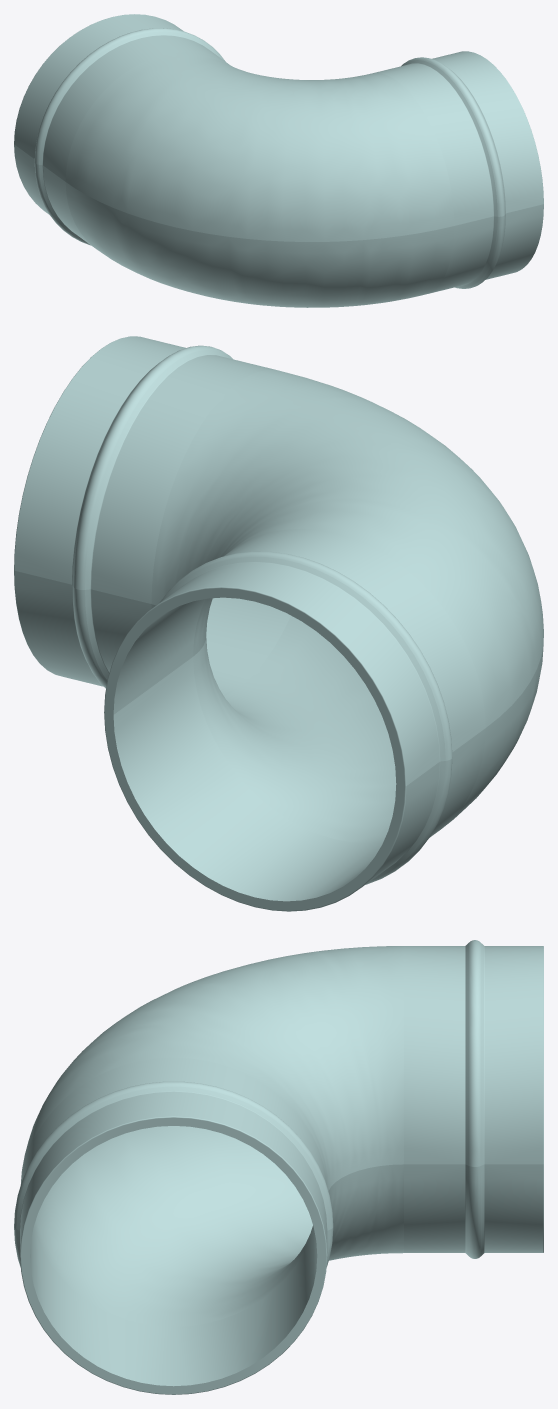
The picture shows the model from 3 angles, top to bottom: view 1: azimuth 30°, elevation 25°; view 2: azimuth 150°, elevation 25°; view 3: azimuth 270°, elevation 25°; orthographic projection. The views are drawn at different scales.
Size of the model in its own units: 265 by 159 by 265.
